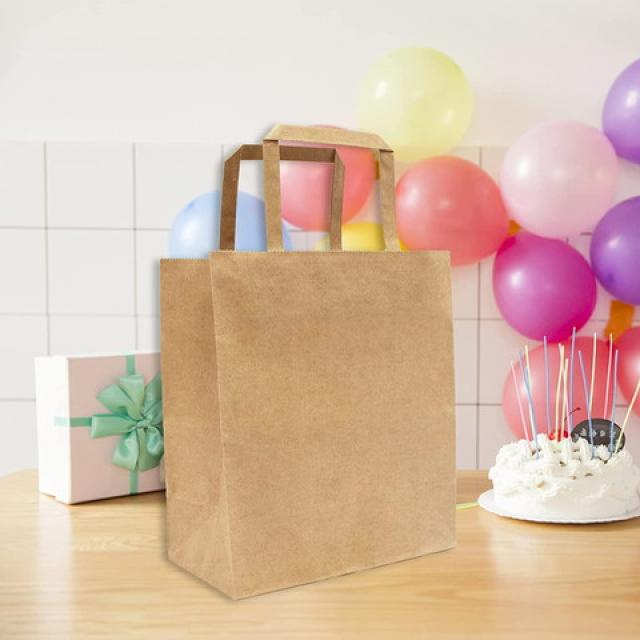paper bag: (160, 120, 460, 605)
